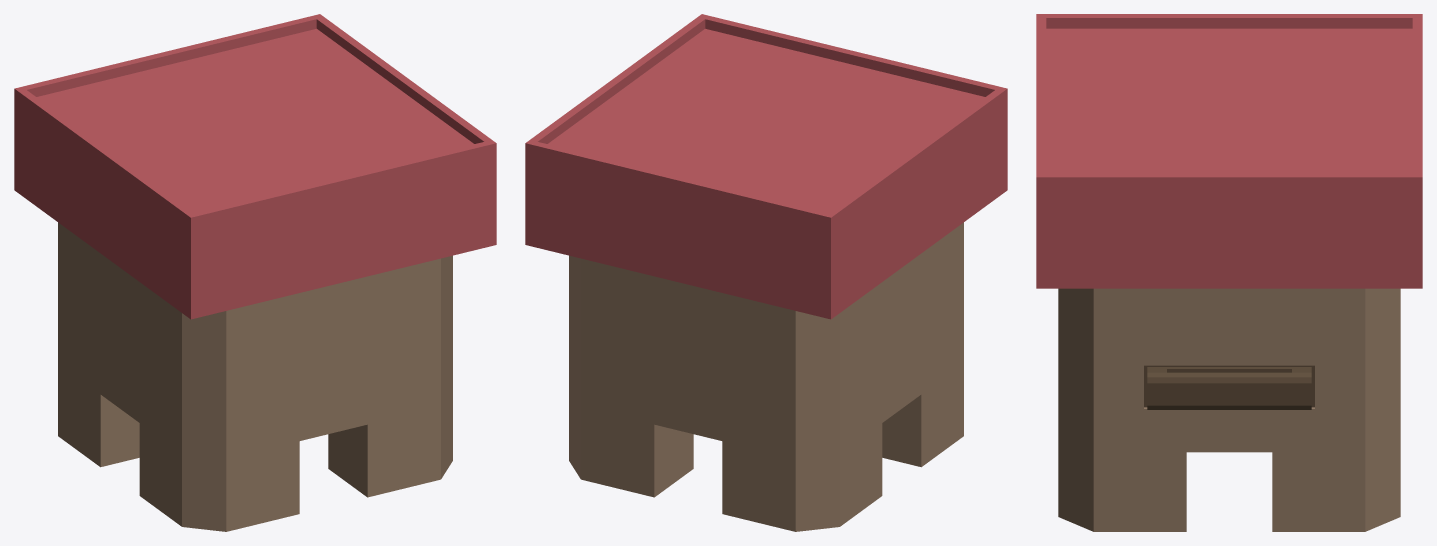
File: Table_Interacted.fbx
3 views of the same model, side by side, from view 1: azimuth 30°, elevation 25°; view 2: azimuth 150°, elevation 25°; view 3: azimuth 270°, elevation 25° (orthographic). The views are drawn at different scales.
Parts seen in each view (by area): view 1: Table; view 2: Table; view 3: Table.
Part boxes in pixels (box(x1,y1,x2,y2)): Table: box(14, 14, 496, 531); Table: box(525, 14, 1007, 531); Table: box(1036, 14, 1422, 531).
Bounding box in the file's own units: 199 × 207 × 199.
